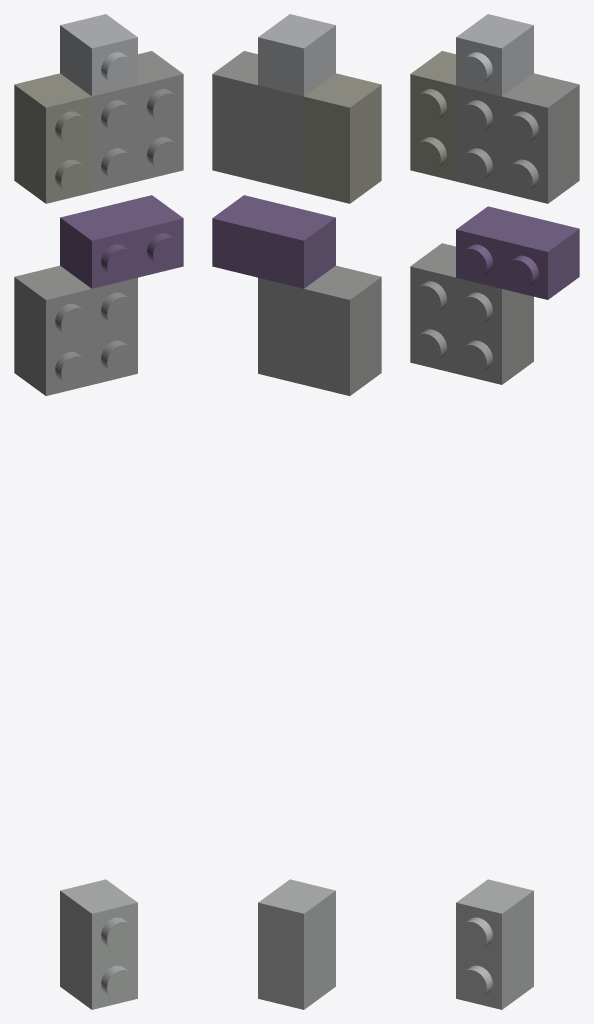
Rendered from current.glb.
3 renders of one model, left to right at view 1: azimuth 30°, elevation 25°; view 2: azimuth 150°, elevation 25°; view 3: azimuth 330°, elevation 25°, orthographic.
Parts seen in each view (by area): view 1: world; view 2: world; view 3: world.
Part boxes in pixels (x1=…): world: x1=14, y1=14, x2=183, y2=1009; world: x1=212, y1=14, x2=381, y2=1009; world: x1=410, y1=14, x2=579, y2=1009.
Size of the model in its own units: 24 by 160 by 11.4.
